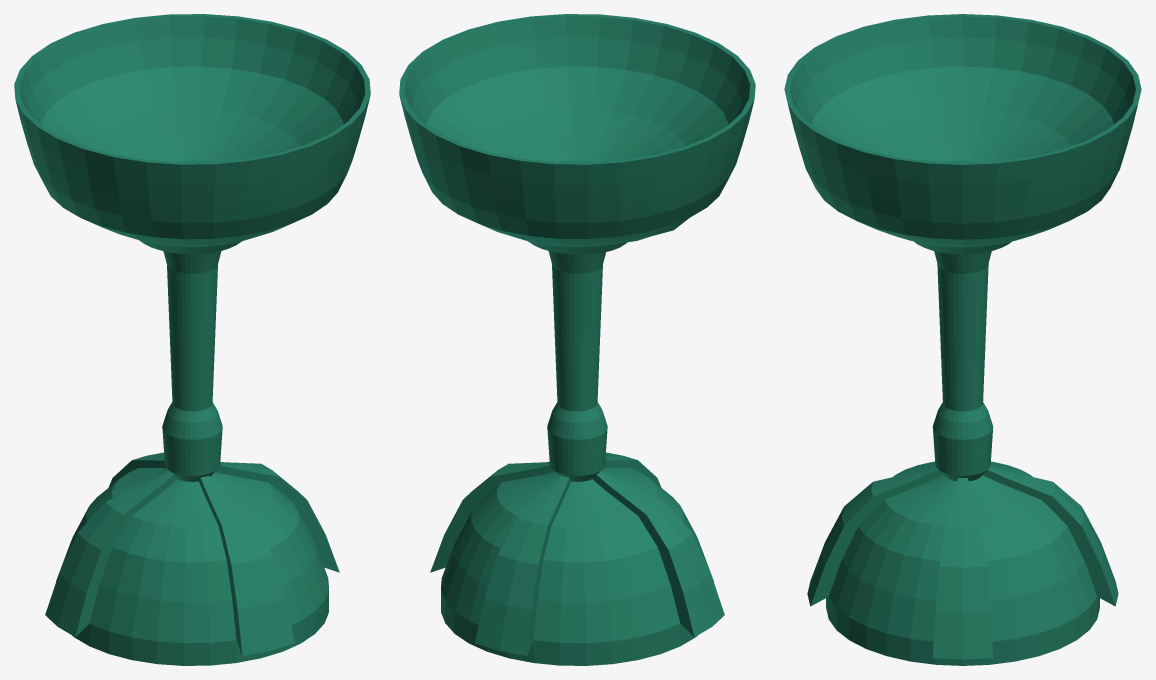
File: Chalice.fbx
3 renders of one model, left to right at view 1: azimuth 30°, elevation 25°; view 2: azimuth 150°, elevation 25°; view 3: azimuth 270°, elevation 25°, orthographic.
Parts seen in each view (by area): view 1: Cylinder; view 2: Cylinder; view 3: Cylinder.
Boxes of the visible parts, x1,y1,x2,y2 form: Cylinder: (14,14,370,665); Cylinder: (399,14,755,665); Cylinder: (784,14,1141,665).
Bounding box in the file's own units: 96.18 × 154 × 96.18.
